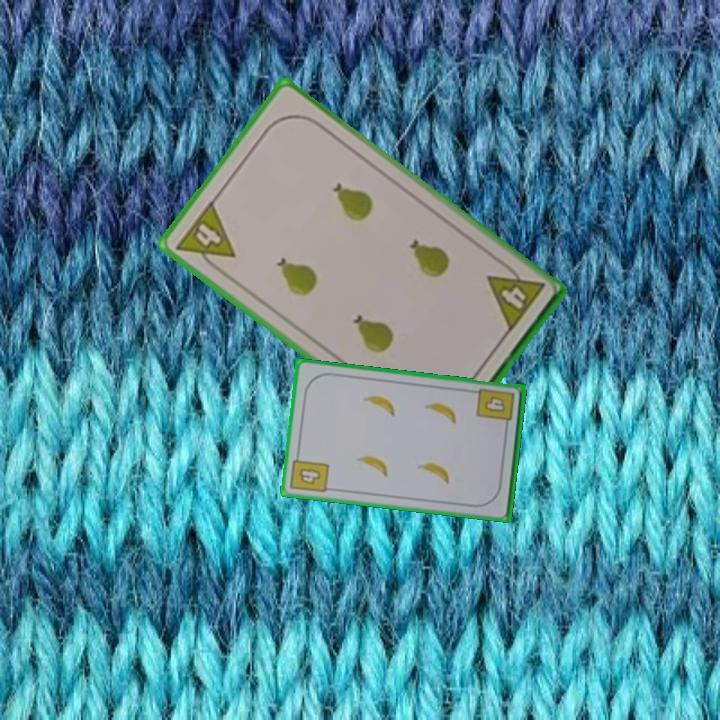4b: (287, 449, 332, 496), (473, 385, 517, 432)
4p: (171, 197, 238, 277), (483, 257, 547, 335)
